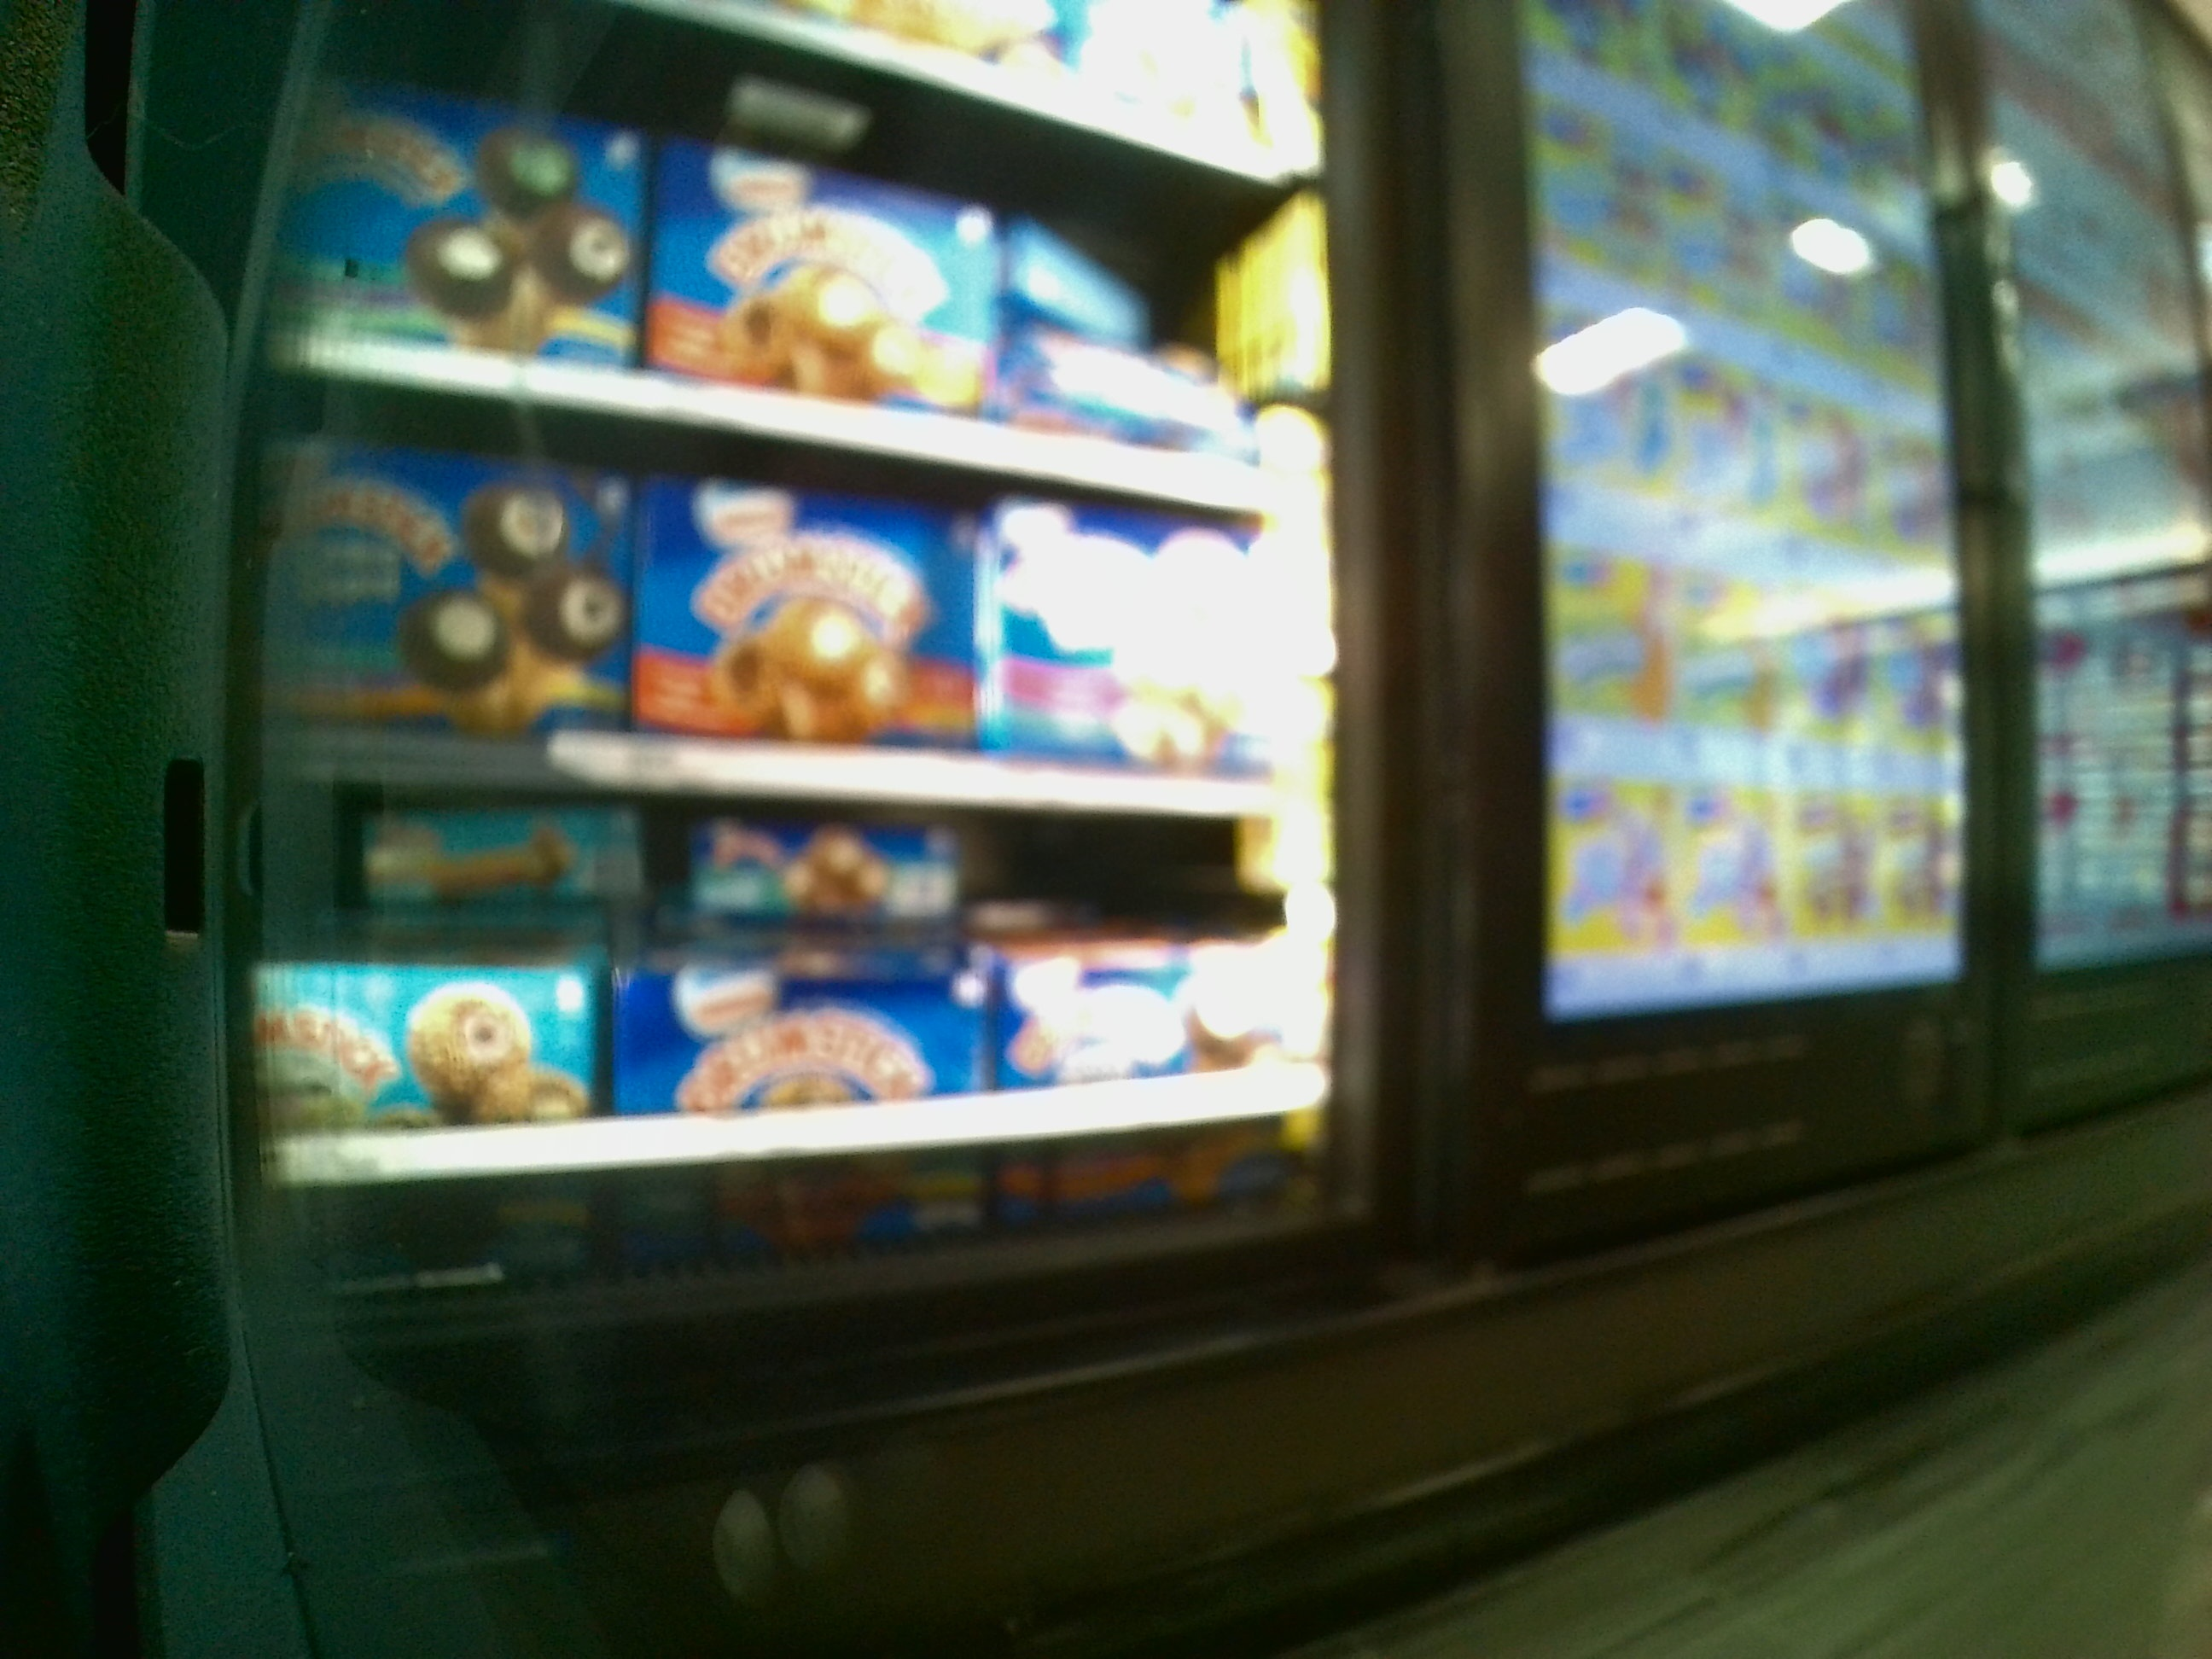shelf: (270, 810, 1343, 1274), (256, 439, 1331, 807)
